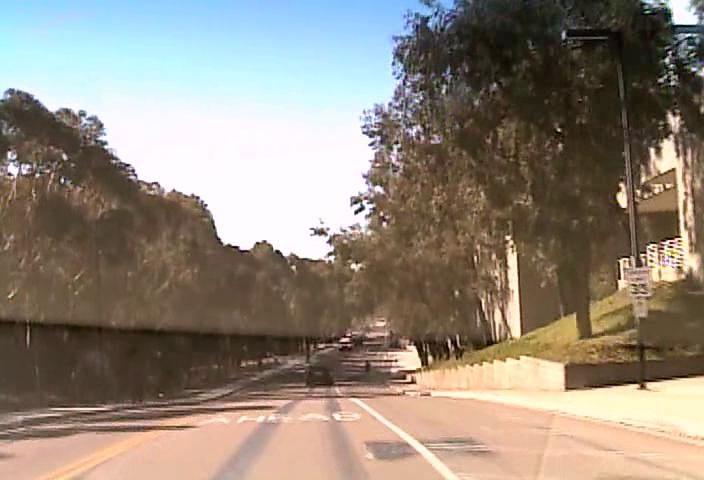speedLimit35: (625, 266, 651, 297)
